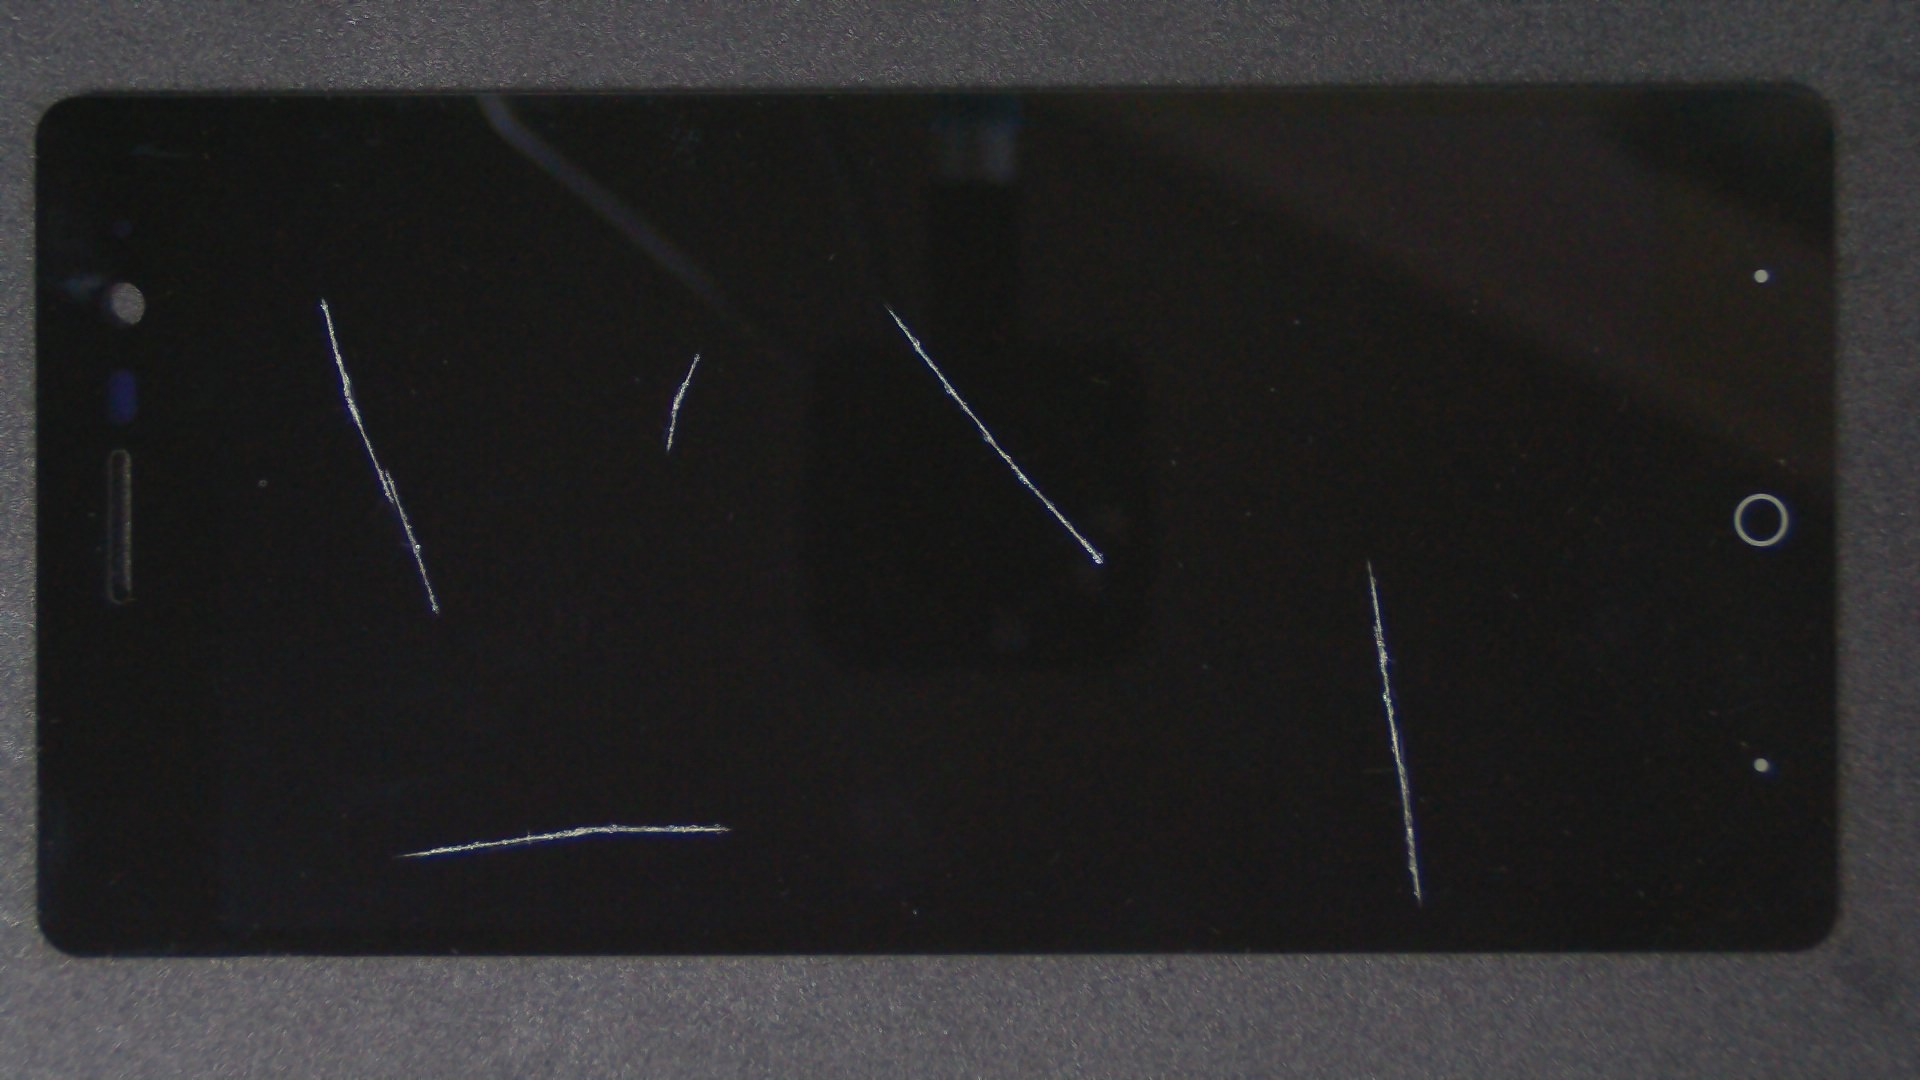oil: (684, 280, 1920, 840), (357, 410, 1071, 1080), (443, 152, 1328, 456), (349, 175, 1047, 529), (162, 148, 484, 447)
